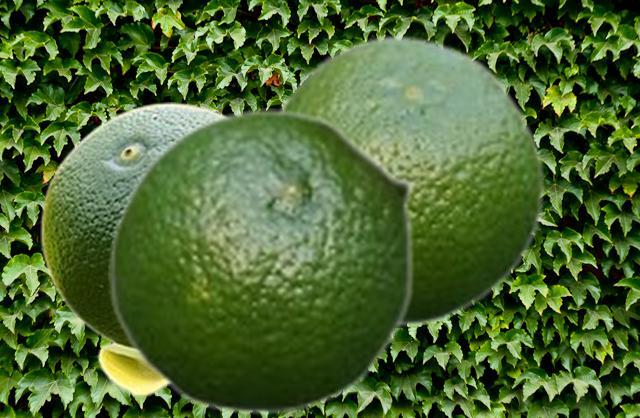calamansi: (108, 108, 415, 415), (274, 32, 545, 326), (40, 102, 225, 396)
